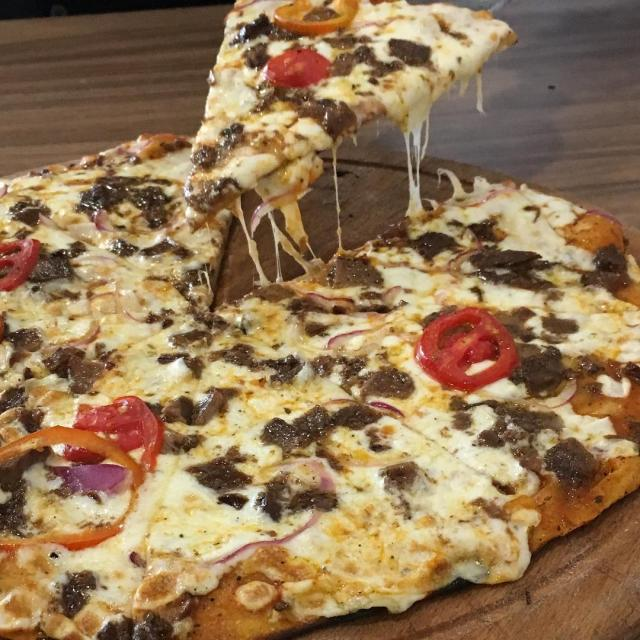pizza: (0, 0, 640, 640)
tomatoes: (0, 415, 147, 484), (411, 303, 518, 392), (64, 391, 162, 469), (0, 524, 126, 556), (265, 42, 326, 92), (269, 0, 354, 31), (1, 228, 36, 294)
